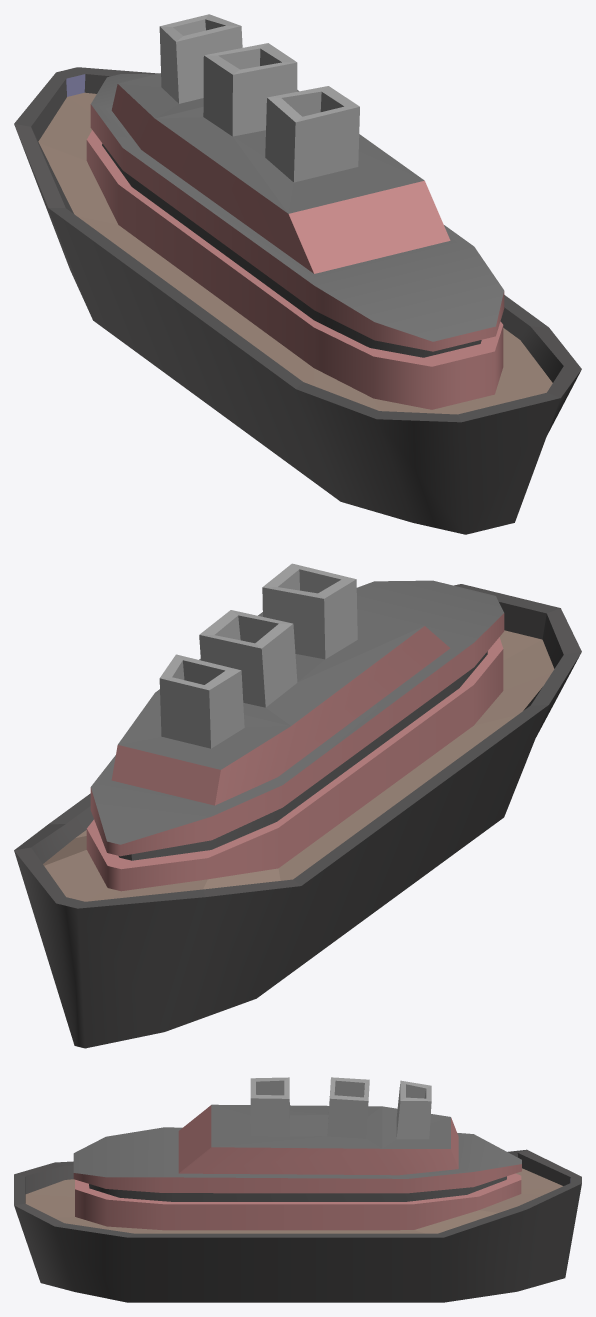
File: Ship.fbx
3 renders of one model, top to bottom at view 1: azimuth 30°, elevation 25°; view 2: azimuth 150°, elevation 25°; view 3: azimuth 270°, elevation 25°, orthographic. The views are drawn at different scales.
Visible parts, largest first — view 1: pCube2; view 2: pCube2; view 3: pCube2.
Part boxes in pixels (bbox=[...]): pCube2: bbox=[14, 14, 581, 534]; pCube2: bbox=[14, 563, 581, 1048]; pCube2: bbox=[14, 1077, 581, 1302].
Bounding box in the file's own units: 441 × 497 × 1342.
